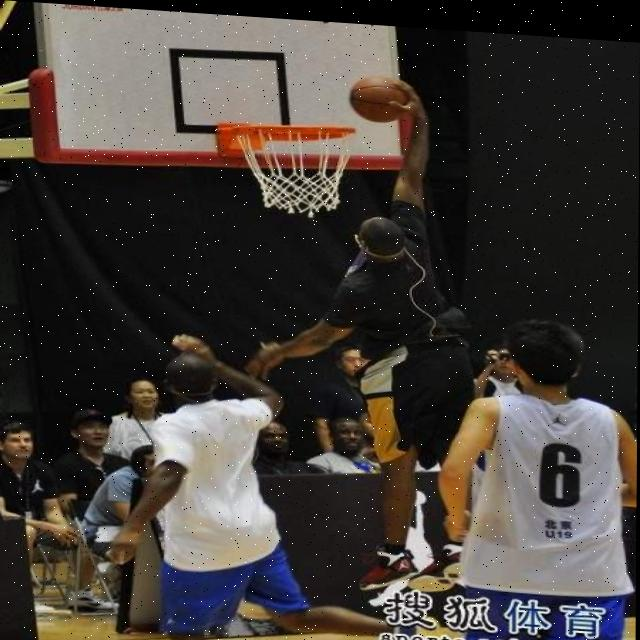basketball: (351, 74, 409, 126)
hoop: (225, 118, 362, 222)
